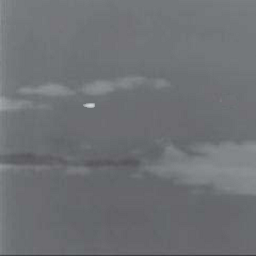Target: (82, 102, 97, 109)
